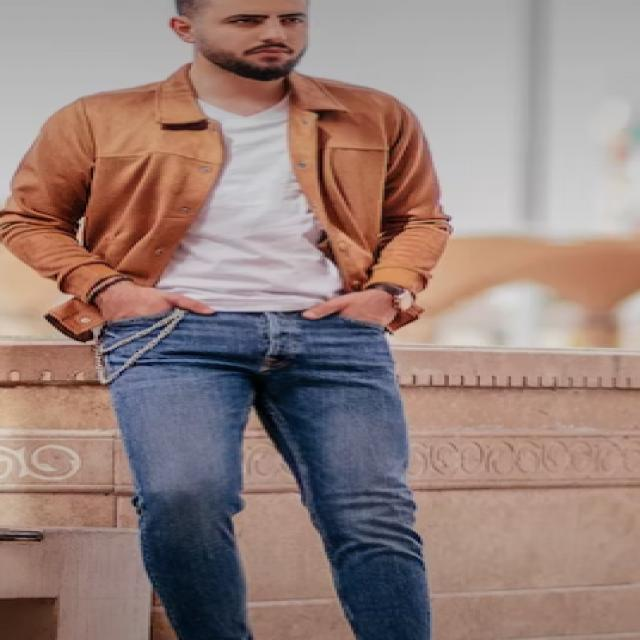Watch: (364, 276, 424, 316)
